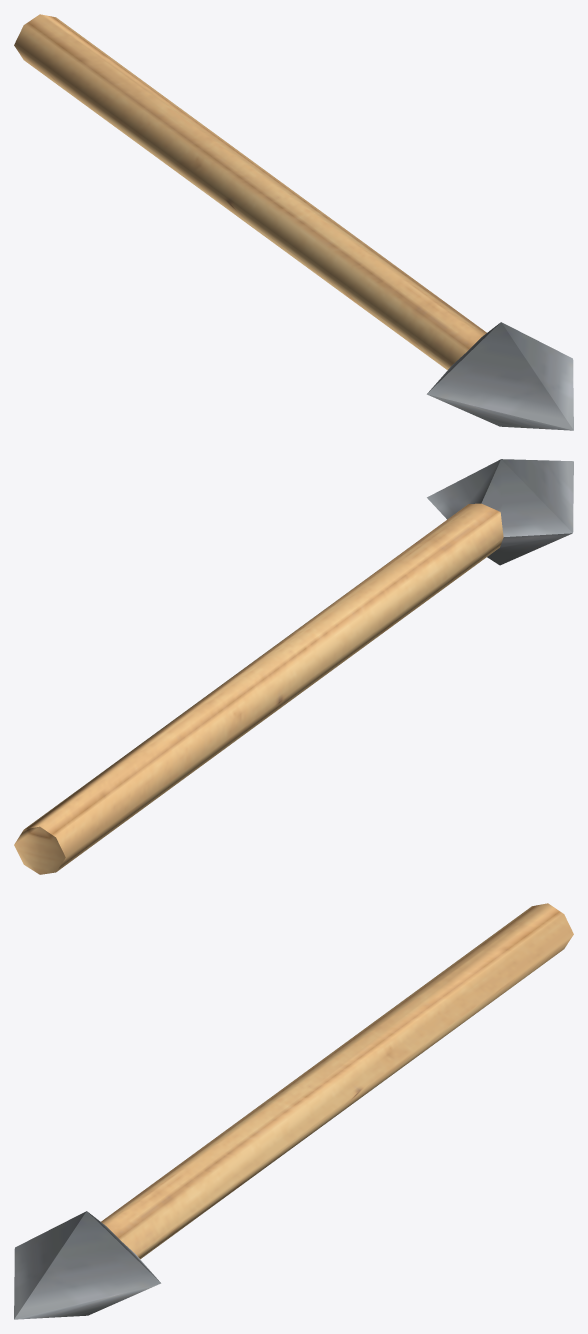
The model's file is P_BallistaBolt.fbx.
3 views of the same model, one above another, from view 1: azimuth 30°, elevation 25°; view 2: azimuth 150°, elevation 25°; view 3: azimuth 330°, elevation 25° (orthographic).
Parts seen in each view (by area): view 1: BallistaBolt; view 2: BallistaBolt; view 3: BallistaBolt.
Part boxes in pixels (x1,y1,x2,y2): BallistaBolt: (14, 14, 573, 430); BallistaBolt: (14, 459, 573, 874); BallistaBolt: (14, 903, 573, 1319).
Bounding box in the file's own units: 53.44 × 36.8 × 337.
